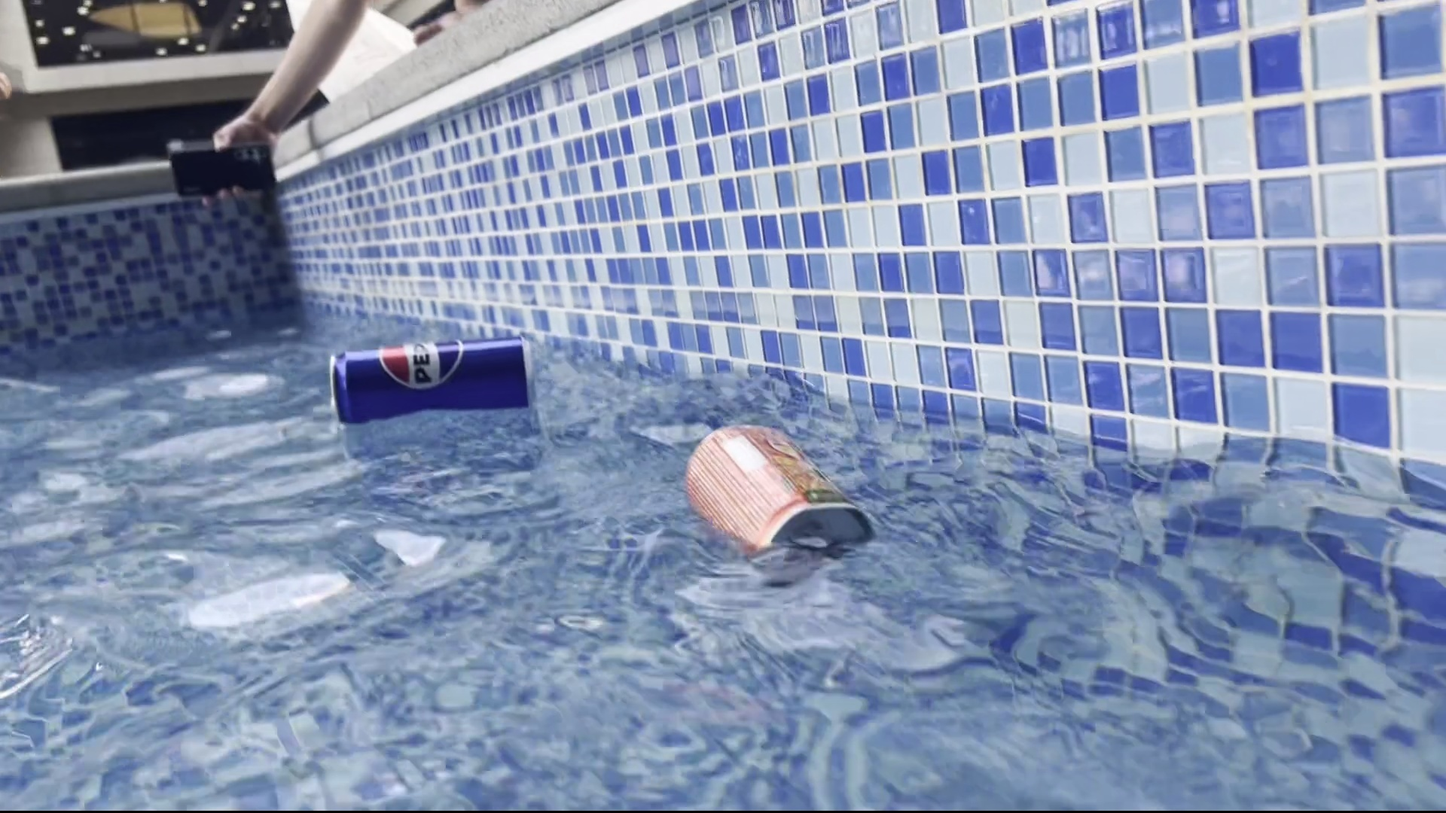debris: (675, 414, 883, 589), (318, 335, 544, 423)
